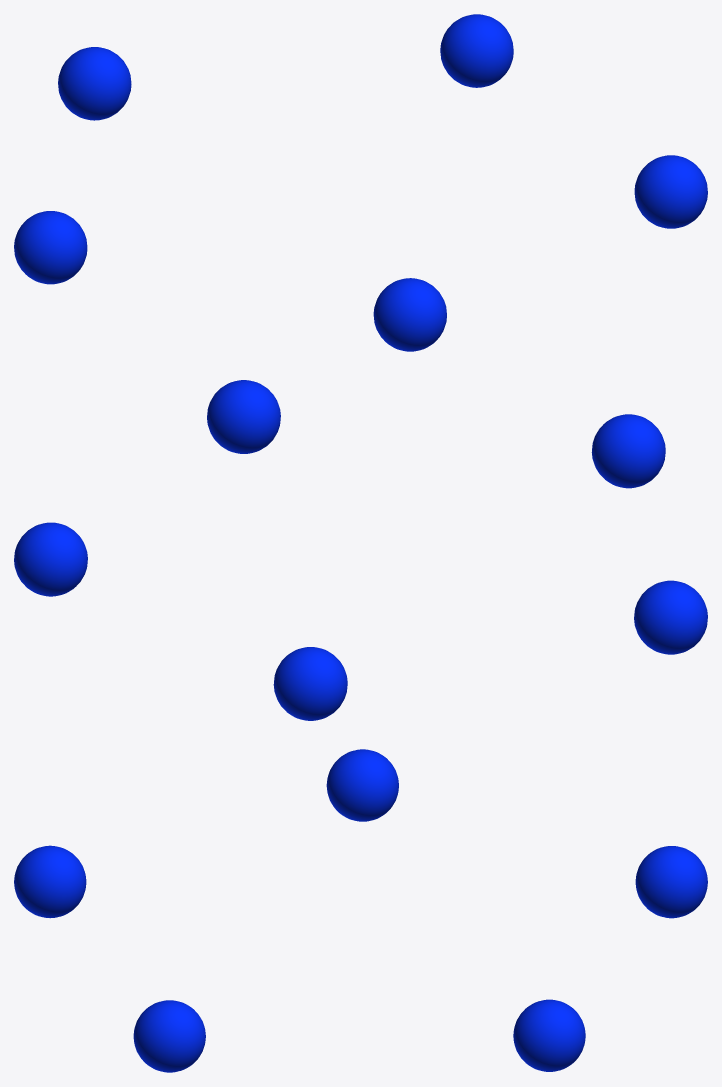
3 renders of one model, top to bottom at view 1: azimuth 30°, elevation 25°; view 2: azimuth 150°, elevation 25°; view 3: azimuth 270°, elevation 25°, orthographic. The views are drawn at different scales.
Visible parts, largest first — view 1: Sphere046; view 2: Sphere046; view 3: Sphere046.
Boxes of the visible parts, x1=… form: Sphere046: x1=14, y1=14, x2=707, y2=351; Sphere046: x1=14, y1=380, x2=707, y2=720; Sphere046: x1=14, y1=749, x2=707, y2=1072.
Bounding box in the file's own units: 75.51 × 8.22 × 78.68.
